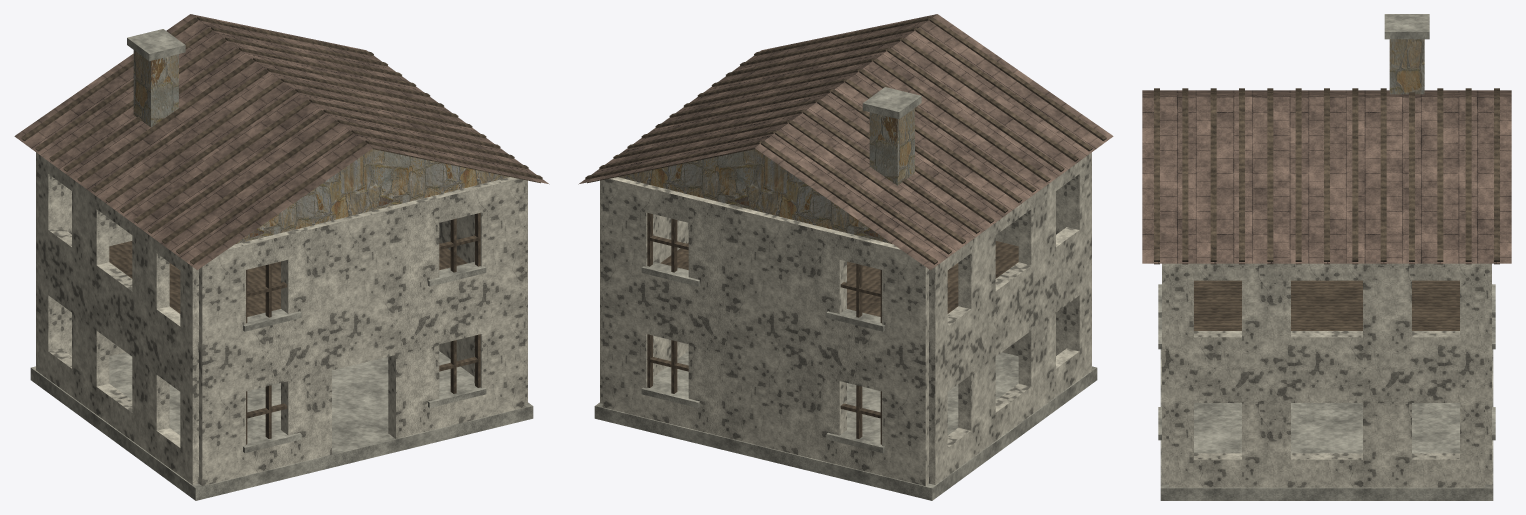
Rendered from House_0.fbx.
3 views of the same model, side by side, from view 1: azimuth 30°, elevation 25°; view 2: azimuth 150°, elevation 25°; view 3: azimuth 270°, elevation 25° (orthographic).
Visible parts, largest first — view 1: House_0; view 2: House_0; view 3: House_0.
Boxes of the visible parts, <box> form: House_0: <box>14,14,549,500</box>; House_0: <box>578,14,1113,500</box>; House_0: <box>1142,14,1511,500</box>.
Bounding box in the file's own units: 820 × 778 × 738.
